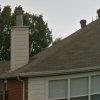Chimney: (6, 6, 34, 73)
